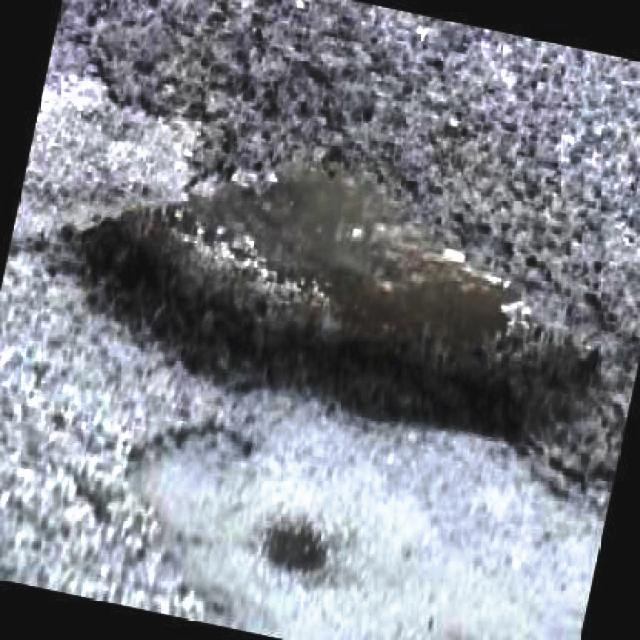pothole: (65, 137, 626, 446)
